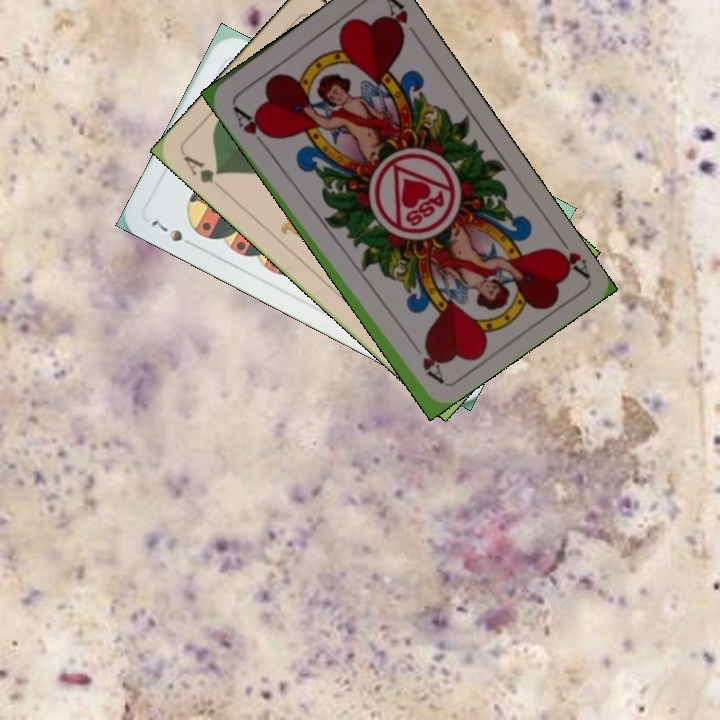GA: (179, 151, 226, 195)
HA: (546, 228, 592, 280), (228, 99, 273, 150)
S7: (147, 216, 200, 251)
